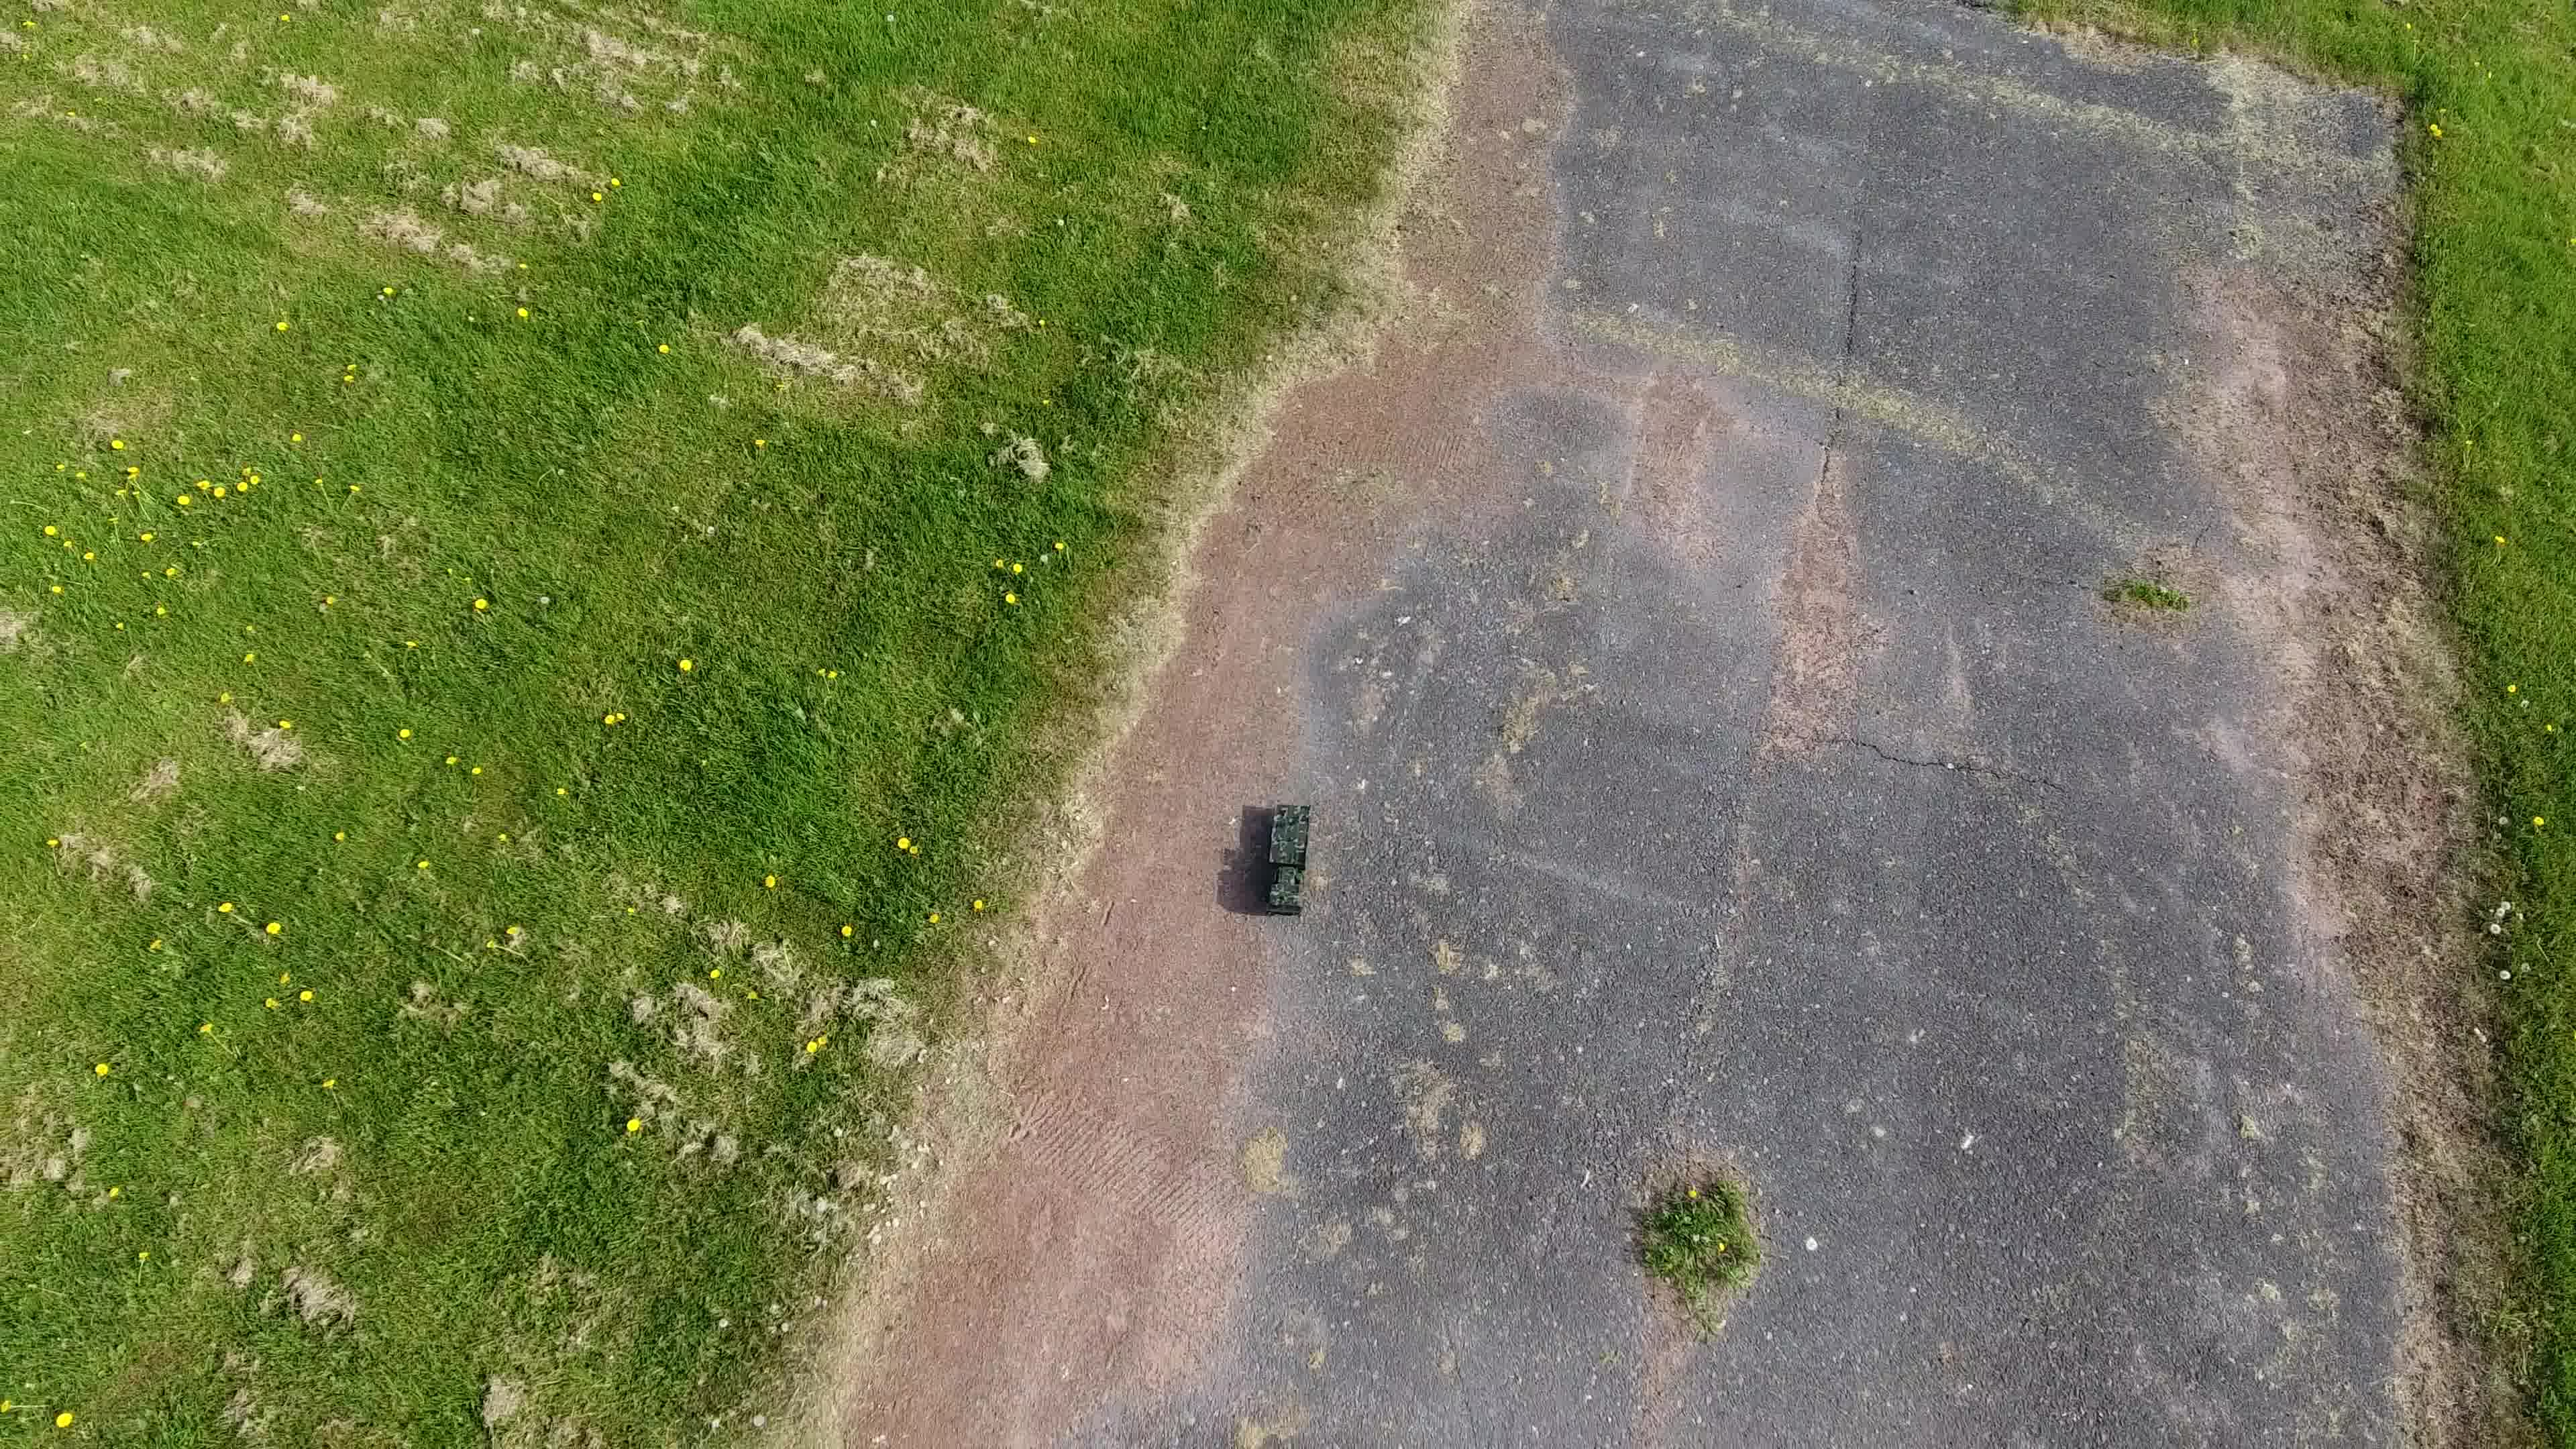transporter9: (1256, 803, 1313, 920)
